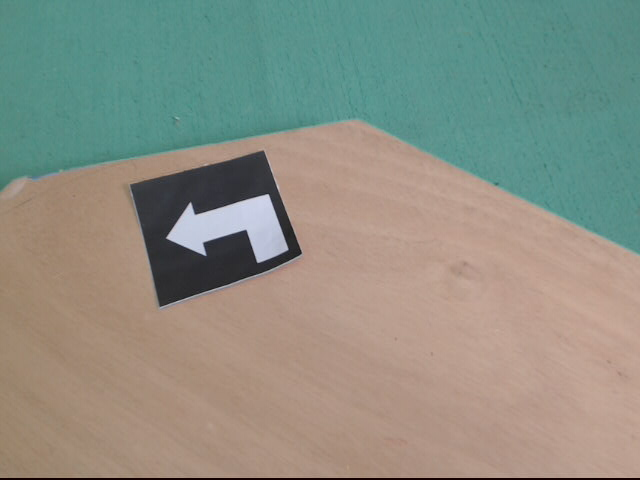left: (130, 149, 306, 309)
